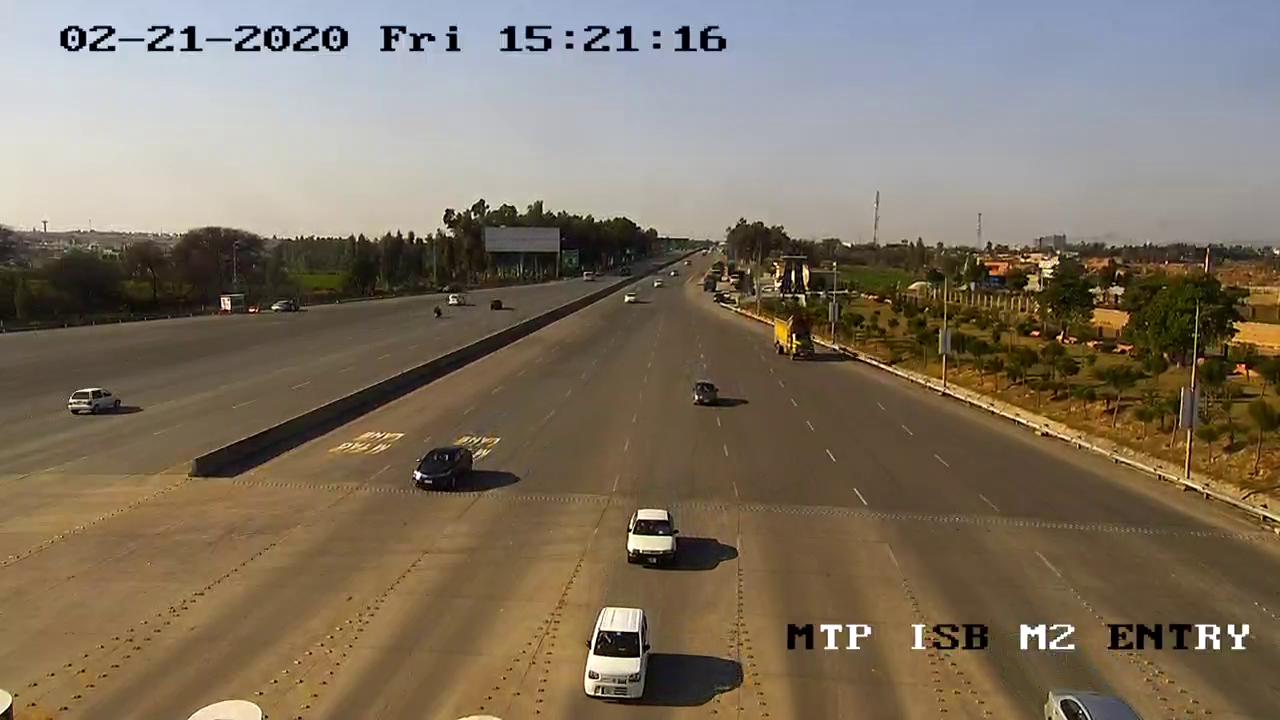f1: (573, 599, 665, 707), (621, 501, 686, 577), (410, 441, 481, 498)
